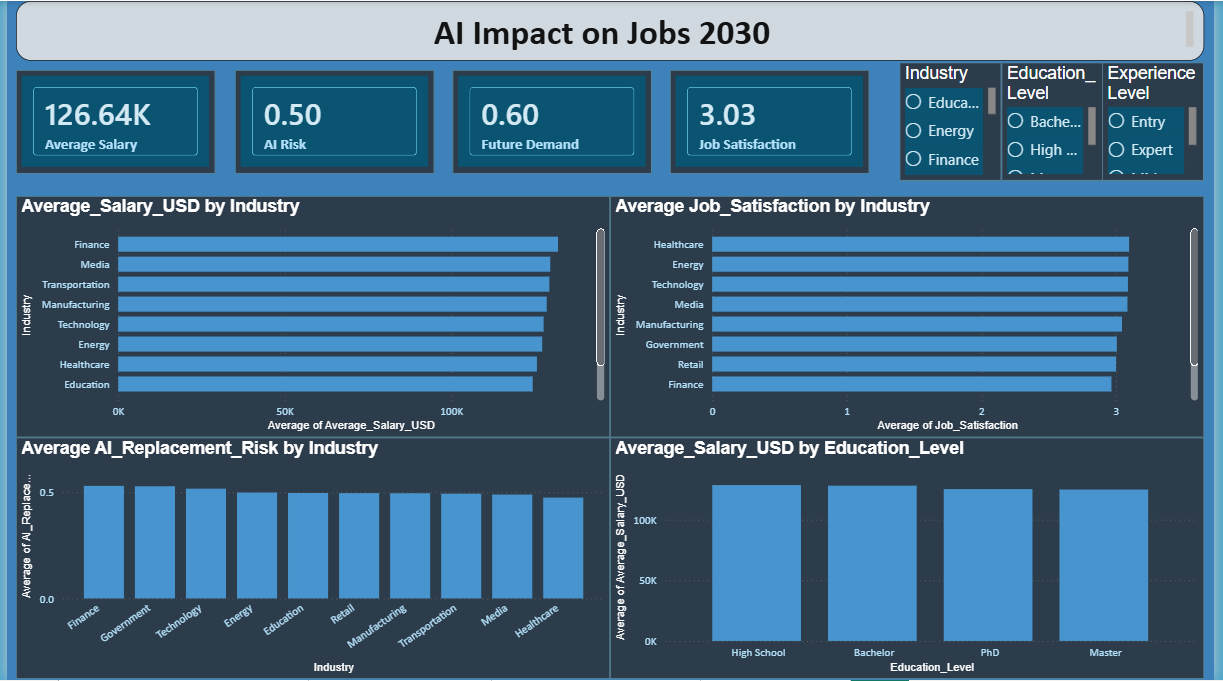

This screenshot's page, from the dashboard's own definition file:
{"tool":"powerbi","page":{"name":"Dashboard","canvas":[1280,720],"ordinal":3},"visuals":[{"type":"textbox","box":[9.5,0,1259.8,63.6],"z":0},{"type":"cardVisual","fields":{"Data":["AI_Impact_on_Jobs_2030.Average Salary"]},"box":[9.5,73.2,211.6,109.8],"z":1},{"type":"cardVisual","fields":{"Data":["AI_Impact_on_Jobs_2030.AI Risk"]},"box":[241.8,73.2,211.6,109.8],"z":2},{"type":"cardVisual","fields":{"Data":["AI_Impact_on_Jobs_2030.Future Demand"]},"box":[472.4,73.2,211.6,109.8],"z":3},{"type":"cardVisual","fields":{"Data":["AI_Impact_on_Jobs_2030.Job Satisfaction"]},"box":[703.1,73.2,211.6,109.8],"z":4},{"type":"barChart","title":" Average_Salary_USD by Industry","fields":{"Category":["AI_Impact_on_Jobs_2030.Industry"],"Y":["Avg(AI_Impact_on_Jobs_2030.Average_Salary_USD)"]},"box":[9.5,206.8,630,256.1],"z":5},{"type":"clusteredColumnChart","title":"Average  AI_Replacement_Risk by Industry","fields":{"Y":["Avg(AI_Impact_on_Jobs_2030.AI_Replacement_Risk)"],"Category":["AI_Impact_on_Jobs_2030.Industry"]},"box":[9.5,462.9,630,256],"z":7},{"type":"clusteredColumnChart","title":"Average_Salary_USD by Education_Level","fields":{"Category":["AI_Impact_on_Jobs_2030.Education_Level"],"Y":["Avg(AI_Impact_on_Jobs_2030.Average_Salary_USD)"]},"box":[639.4,462.9,629.9,256.1],"z":8},{"type":"clusteredBarChart","title":"Average  Job_Satisfaction by Industry","fields":{"Category":["AI_Impact_on_Jobs_2030.Industry"],"Y":["Avg(AI_Impact_on_Jobs_2030.Job_Satisfaction)"]},"box":[639.4,206.8,629.9,256.1],"z":9},{"type":"listSlicer","fields":{"Values":["AI_Impact_on_Jobs_2030.Industry"]},"box":[946.4,65.2,108.2,125.7],"z":10},{"type":"listSlicer","fields":{"Values":["AI_Impact_on_Jobs_2030.Education_Level"]},"box":[1054.6,65.2,108.2,125.7],"z":11},{"type":"listSlicer","fields":{"Values":["AI_Impact_on_Jobs_2030.Experience Level"]},"box":[1161.1,65.2,108.2,125.7],"z":12}]}

Visuals, with their boxes in screenshot pixels (x1, y1, x2, y2), scaled from the page's 1280x720 canvas onto the 1223x681 screenshot:
textbox: 9,0,1213,60
cardVisual - AI_Impact_on_Jobs_2030.Average Salary: 9,69,211,173
cardVisual - AI_Impact_on_Jobs_2030.AI Risk: 231,69,433,173
cardVisual - AI_Impact_on_Jobs_2030.Future Demand: 451,69,654,173
cardVisual - AI_Impact_on_Jobs_2030.Job Satisfaction: 672,69,874,173
" Average_Salary_USD by Industry" barChart: 9,196,611,438
"Average  AI_Replacement_Risk by Industry" clusteredColumnChart: 9,438,611,680
"Average_Salary_USD by Education_Level" clusteredColumnChart: 611,438,1213,680
"Average  Job_Satisfaction by Industry" clusteredBarChart: 611,196,1213,438
listSlicer - AI_Impact_on_Jobs_2030.Industry: 904,62,1008,181
listSlicer - AI_Impact_on_Jobs_2030.Education_Level: 1008,62,1111,181
listSlicer - AI_Impact_on_Jobs_2030.Experience Level: 1109,62,1213,181
